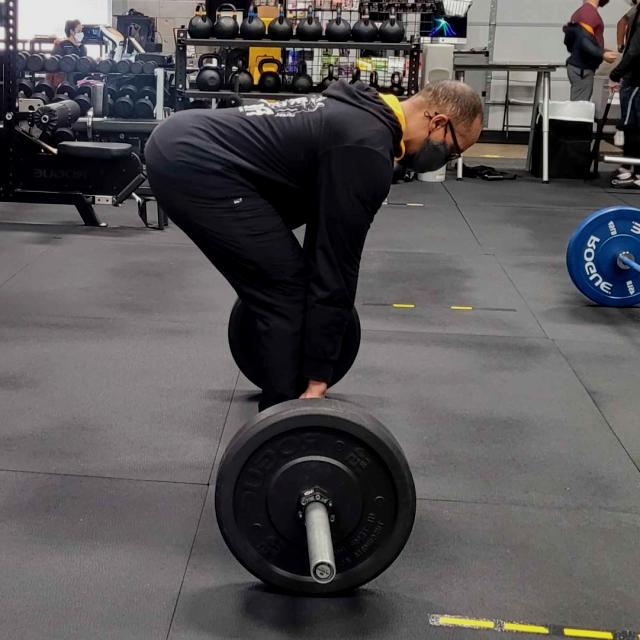barbell_plate_side: (215, 395, 265, 595), (367, 395, 417, 595), (566, 204, 584, 307), (622, 204, 640, 307)
